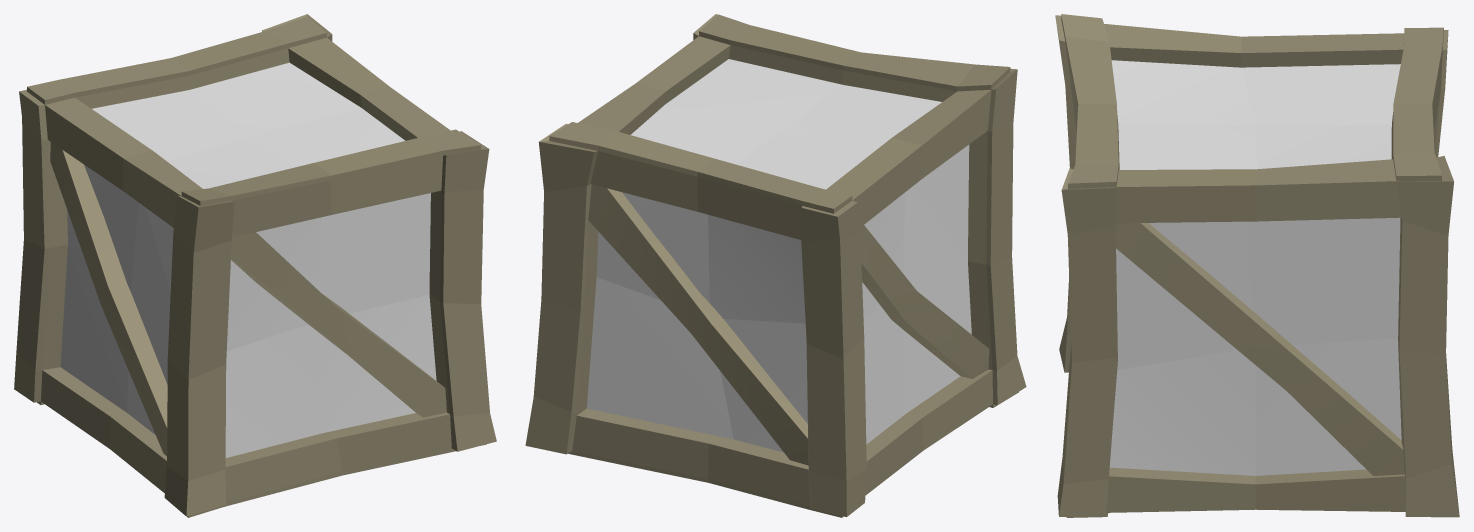
The model's file is Crate01.fbx.
3 renders of one model, left to right at view 1: azimuth 30°, elevation 25°; view 2: azimuth 150°, elevation 25°; view 3: azimuth 270°, elevation 25°, orthographic. The views are drawn at different scales.
Parts seen in each view (by area): view 1: Crate01; view 2: Crate01; view 3: Crate01.
Boxes of the visible parts, left/top/right/bottom form: Crate01: left=14, top=14, right=496, bottom=517; Crate01: left=525, top=14, right=1026, bottom=517; Crate01: left=1055, top=14, right=1459, bottom=517.
Bounding box in the file's own units: 111 × 108 × 114.
